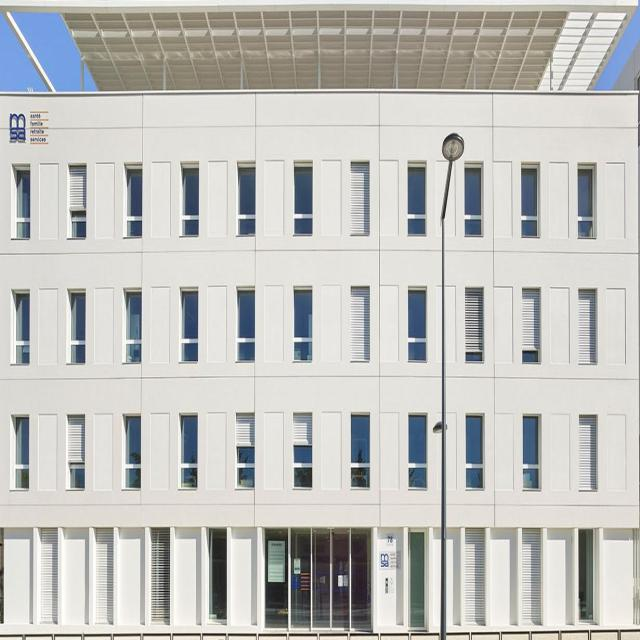door: (263, 527, 374, 633)
window: (409, 525, 431, 629), (465, 529, 485, 634), (151, 527, 170, 625), (93, 534, 113, 627), (209, 528, 227, 622), (40, 524, 57, 622), (234, 412, 255, 490), (292, 411, 313, 488), (524, 533, 540, 625), (579, 528, 594, 623), (407, 416, 425, 487), (124, 414, 141, 489), (67, 415, 84, 490), (351, 416, 369, 486), (180, 416, 196, 491), (352, 291, 369, 357), (14, 418, 29, 489), (241, 291, 256, 359), (467, 292, 482, 360), (523, 291, 538, 359), (579, 292, 594, 360), (579, 415, 594, 483), (185, 168, 200, 235), (239, 168, 254, 235), (522, 170, 537, 237), (70, 171, 85, 238), (14, 294, 28, 363), (70, 292, 84, 361), (17, 168, 31, 236), (126, 168, 140, 236), (295, 165, 309, 233), (465, 168, 479, 236), (128, 292, 142, 360), (185, 293, 199, 361), (296, 291, 310, 359), (467, 416, 481, 484), (409, 171, 423, 238), (578, 168, 592, 235), (411, 294, 425, 361), (523, 418, 537, 485), (351, 166, 365, 233)
